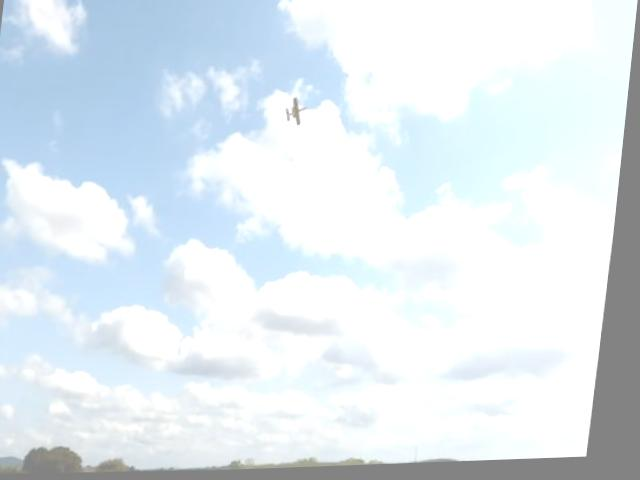uav: (280, 96, 313, 134)
